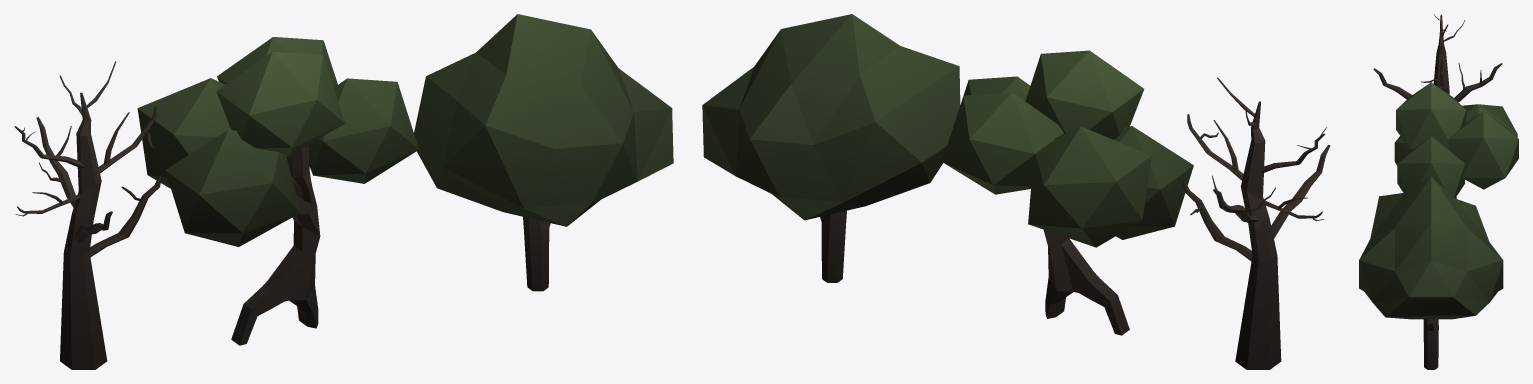
Rendered from Trees.fbx.
The picture shows the model from 3 angles, left to right: view 1: azimuth 30°, elevation 25°; view 2: azimuth 150°, elevation 25°; view 3: azimuth 270°, elevation 25°; orthographic projection. The views are drawn at different scales.
Visible parts, largest first — view 1: Icosphere.001, Icosphere.002, Cylinder.003, Cylinder.002, Cylinder.001; view 2: Icosphere.001, Icosphere.002, Cylinder.003, Cylinder.002, Cylinder.001; view 3: Icosphere.001, Icosphere.002, Cylinder.003, Cylinder.001.
Boxes of the visible parts, left/top/right/bottom form: Icosphere.001: left=414, top=14, right=673, bottom=226; Icosphere.002: left=137, top=37, right=418, bottom=246; Cylinder.003: left=14, top=61, right=161, bottom=369; Cylinder.002: left=231, top=146, right=320, bottom=345; Cylinder.001: left=523, top=217, right=550, bottom=291; Icosphere.001: left=702, top=14, right=960, bottom=220; Icosphere.002: left=942, top=50, right=1193, bottom=247; Cylinder.003: left=1183, top=77, right=1330, bottom=369; Cylinder.002: left=1043, top=230, right=1129, bottom=335; Cylinder.001: left=820, top=210, right=846, bottom=282; Icosphere.001: left=1359, top=176, right=1503, bottom=319; Icosphere.002: left=1394, top=82, right=1518, bottom=198; Cylinder.003: left=1373, top=14, right=1502, bottom=198; Cylinder.001: left=1423, top=319, right=1438, bottom=369.
Bounding box in the file's own units: 852 × 408 × 281.
1 material, 1 textured.
